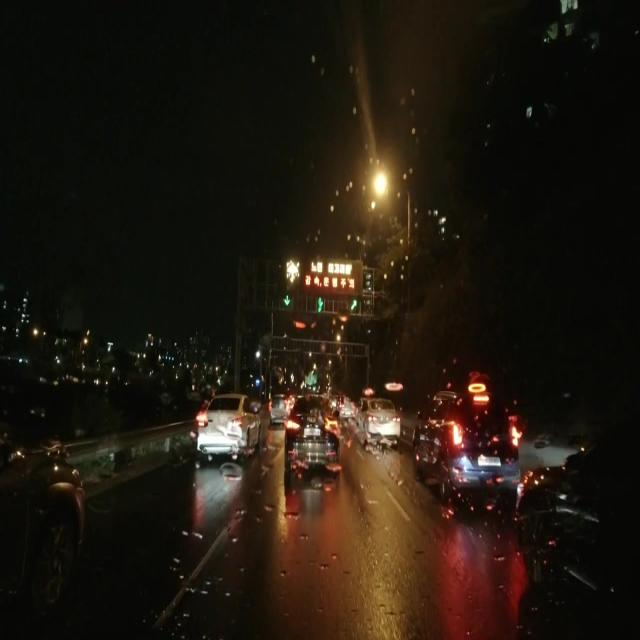Car: (515, 421, 639, 632), (1, 425, 86, 639), (407, 376, 516, 496), (284, 395, 339, 477), (195, 393, 258, 455), (355, 395, 400, 444), (267, 397, 286, 422)
